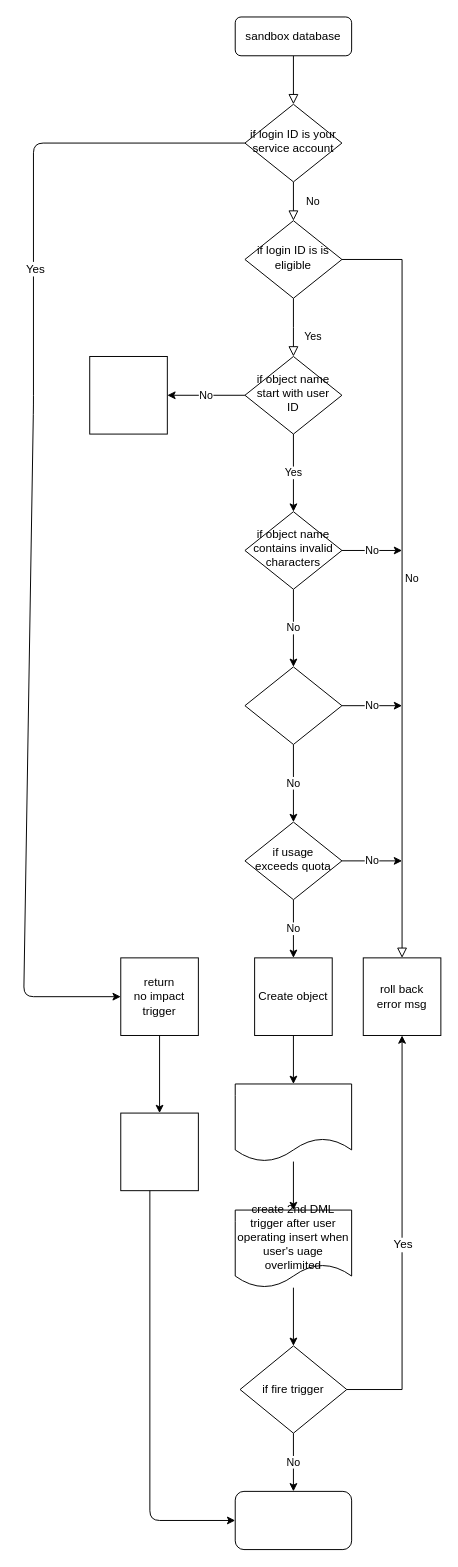
Image size: 458x1567. Some labels were removed from this diagram. Here are the shapes that lost their labels. From the top down, the centre of each, then its label:
At pixel 128 395: "Rename object name starting with user ID".
At pixel 293 705: "if object does exist".
At pixel 293 1122: "create DML trigger for user object on delete, update and insert".
At pixel 159 1151: "super user do any thing".
At pixel 293 1520: "end".
